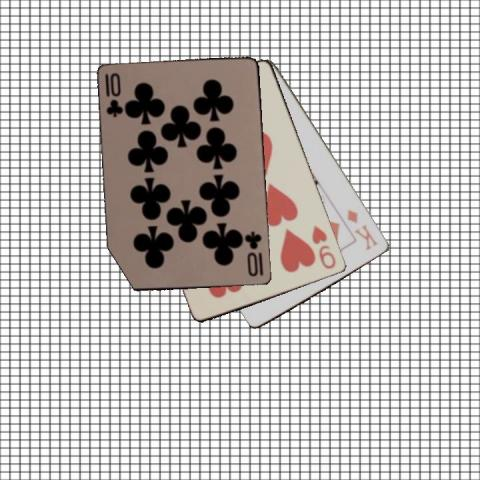10c: (242, 228, 264, 279), (103, 70, 124, 119)
9h: (309, 222, 338, 271)
Kd: (344, 206, 379, 252)
